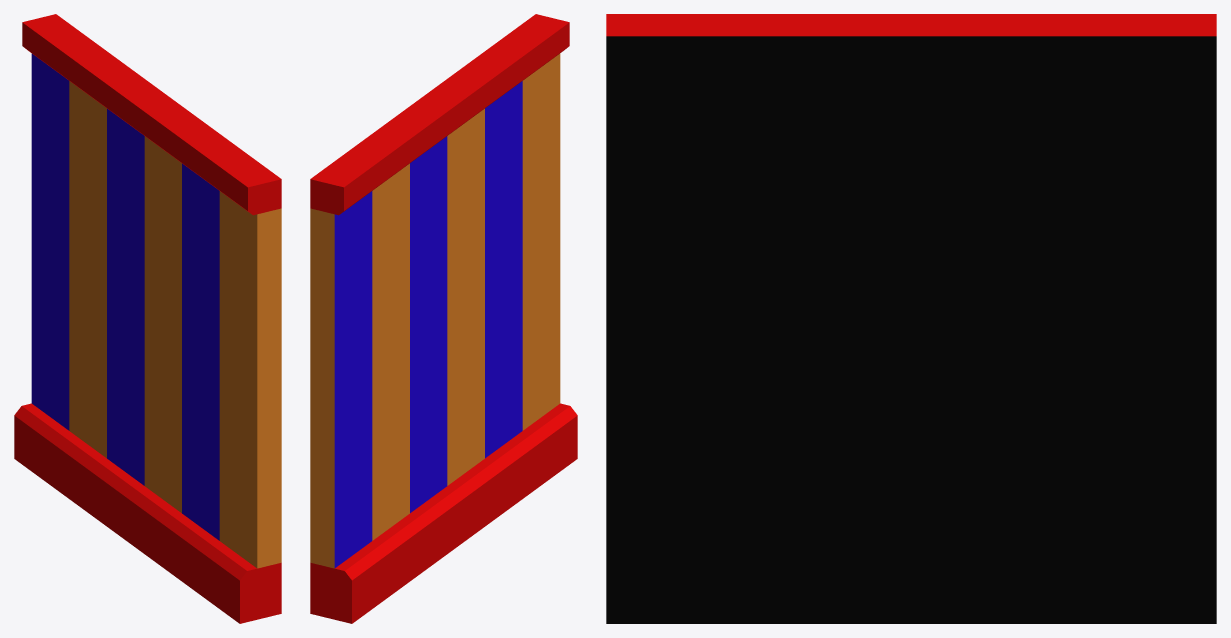
Rendered from Wall_1.fbx.
3 views of the same model, side by side, from view 1: azimuth 30°, elevation 25°; view 2: azimuth 150°, elevation 25°; view 3: azimuth 270°, elevation 25° (orthographic). The views are drawn at different scales.
Visible parts, largest first — view 1: Cube.011; view 2: Cube.011; view 3: Cube.011.
Boxes of the visible parts, left/top/right/bottom form: Cube.011: left=14, top=14, right=281, bottom=623; Cube.011: left=310, top=14, right=577, bottom=623; Cube.011: left=606, top=14, right=1216, bottom=623.
Size of the model in its own units: 0.4284 by 4 by 4.25.
